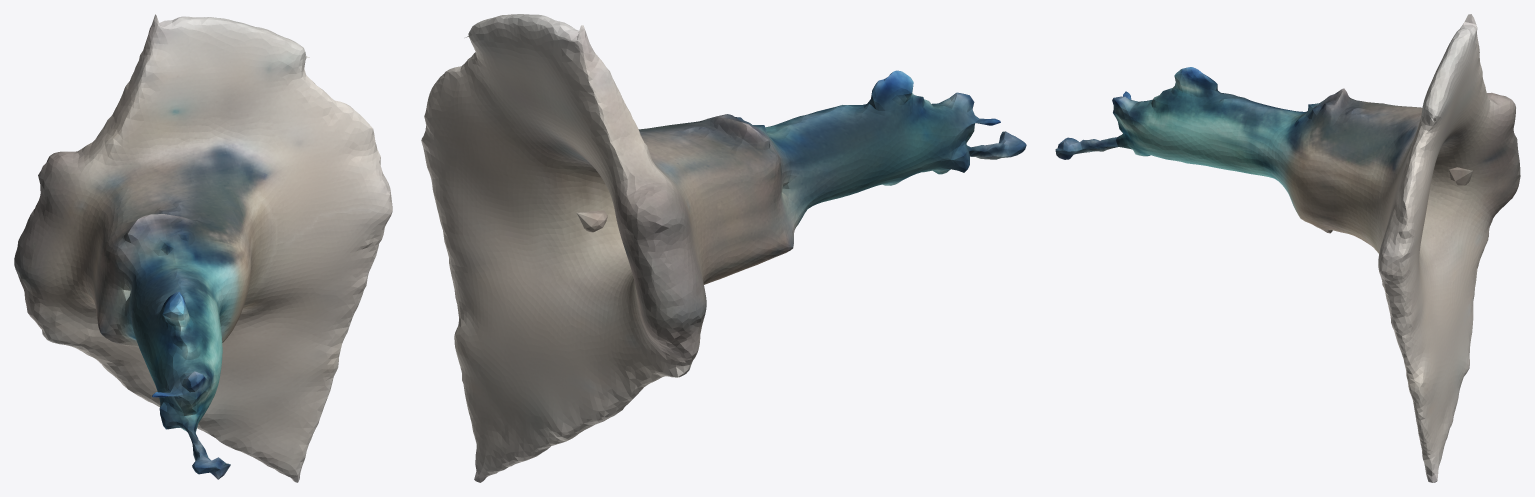
The model's file is IMG_SEG_04.glb.
3 views of the same model, side by side, from view 1: azimuth 30°, elevation 25°; view 2: azimuth 150°, elevation 25°; view 3: azimuth 270°, elevation 25° (orthographic). The views are drawn at different scales.
Size of the model in its own units: 0.6882 by 0.8015 by 0.8081.
1 material, 1 textured.
